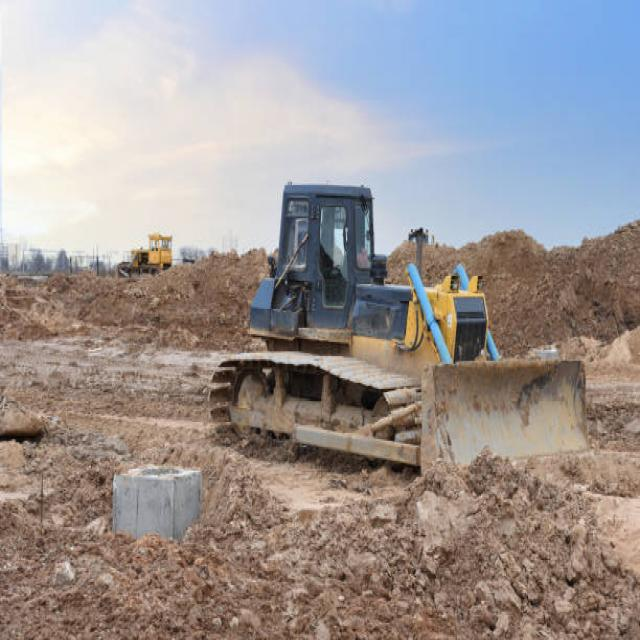Bulldozer: (205, 181, 592, 476)
